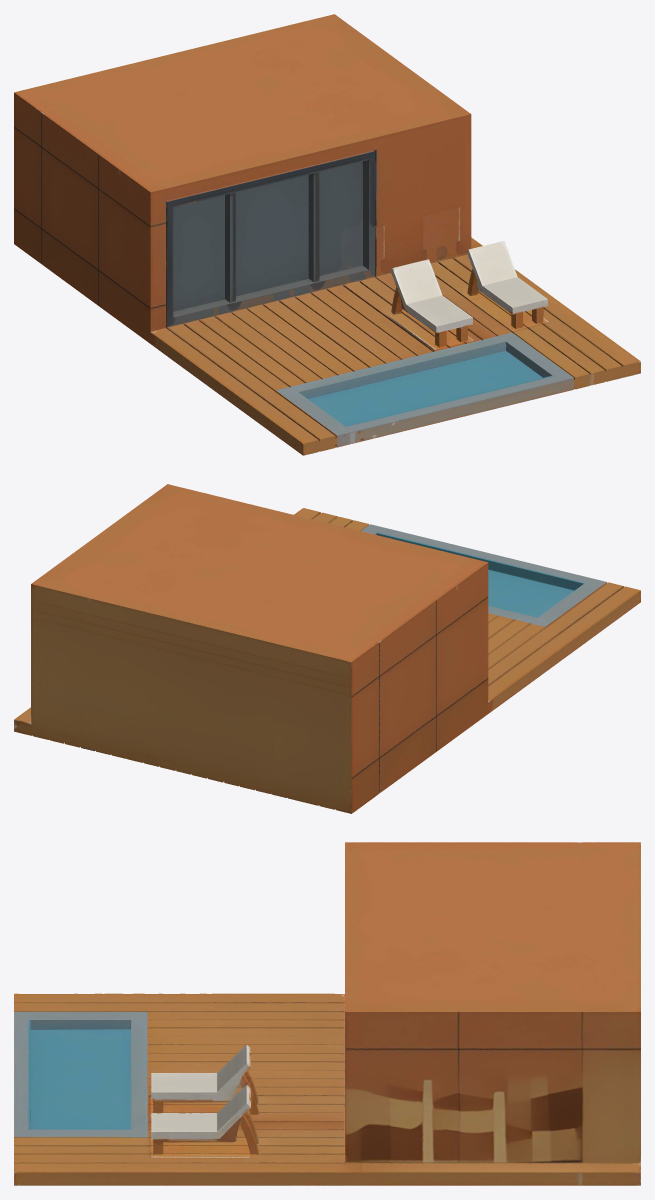
Rendered from house.glb.
3 views of the same model, one above another, from view 1: azimuth 30°, elevation 25°; view 2: azimuth 150°, elevation 25°; view 3: azimuth 270°, elevation 25° (orthographic). The views are drawn at different scales.
Parts seen in each view (by area): view 1: model; view 2: model; view 3: model.
Part boxes in pixels (x1=…): model: x1=14, y1=14, x2=640, y2=455; model: x1=14, y1=484, x2=640, y2=813; model: x1=14, y1=842, x2=640, y2=1185.
Bounding box in the file's own units: 1.24 × 0.5349 × 1.85.
1 material, 1 textured.
